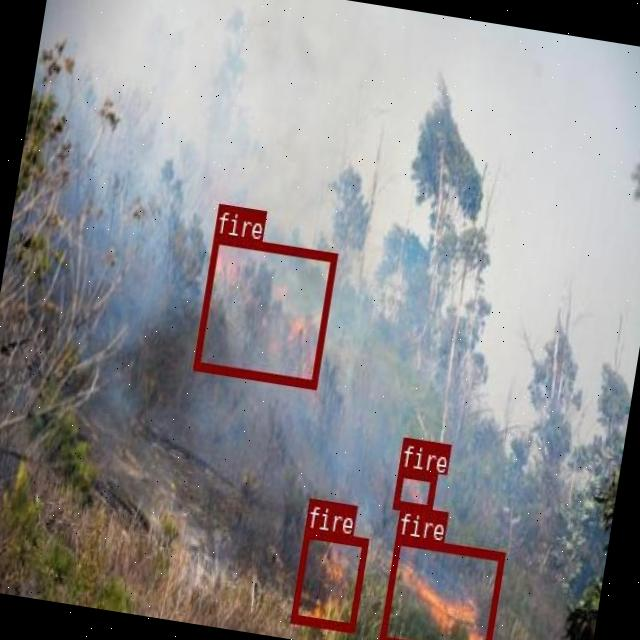fire: (192, 233, 336, 388), (378, 533, 505, 640), (291, 528, 368, 630), (392, 466, 438, 513)
